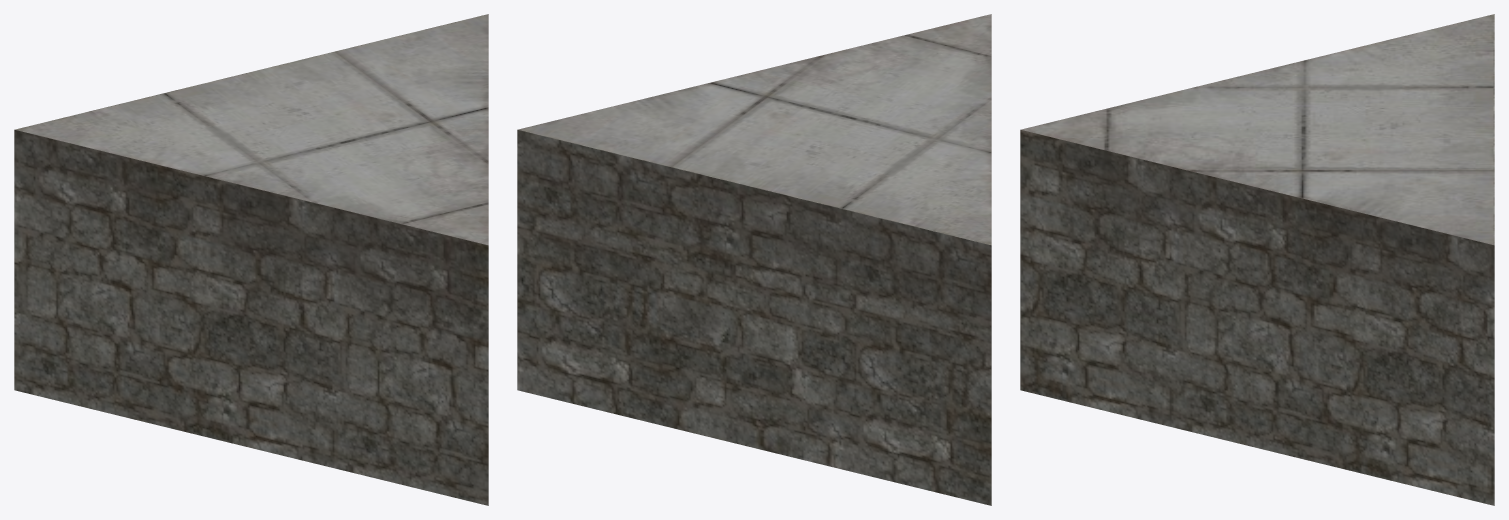
Rendered from stone_foundation_triangle_mid_textured.glb.
3 renders of one model, left to right at view 1: azimuth 30°, elevation 25°; view 2: azimuth 150°, elevation 25°; view 3: azimuth 270°, elevation 25°, orthographic.
Parts seen in each view (by area): view 1: Circle; view 2: Circle; view 3: Circle.
Part boxes in pixels (left/top/right/bottom): Circle: left=14, top=14, right=488, bottom=505; Circle: left=517, top=14, right=991, bottom=505; Circle: left=1020, top=14, right=1494, bottom=505.
Size of the model in its own units: 2 by 1.05 by 1.73.
1 material, 1 textured.
